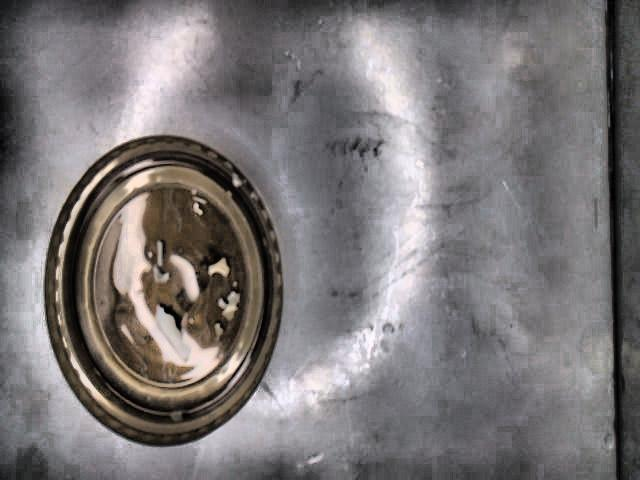Plastic: (44, 135, 281, 446)
